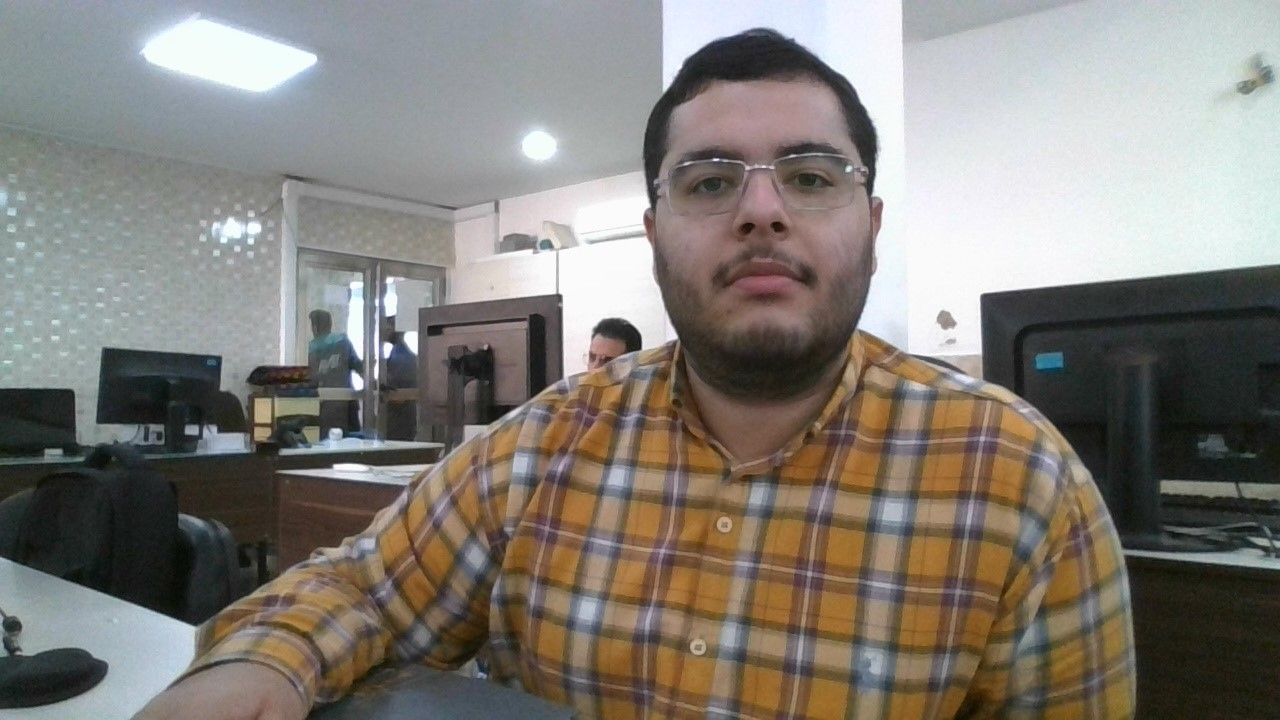NoMask: (650, 198, 878, 393)
